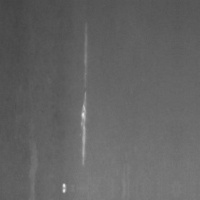scratches: (76, 24, 90, 166)
